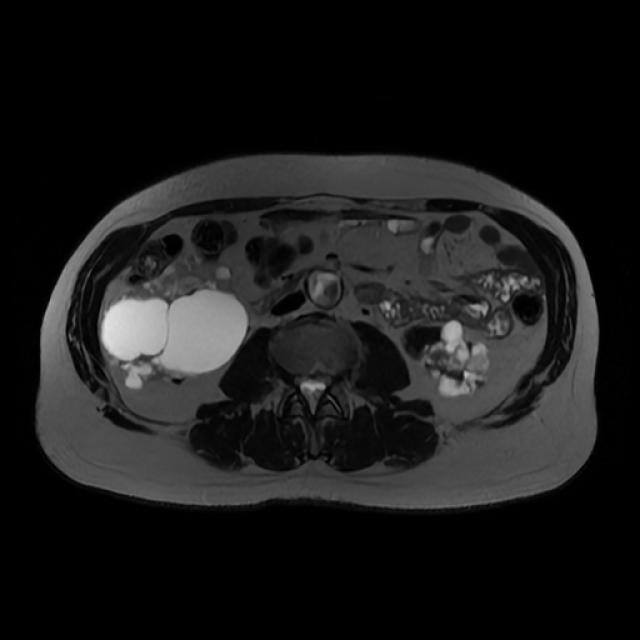sag: (100, 256, 248, 383)
sol: (421, 321, 491, 399)
